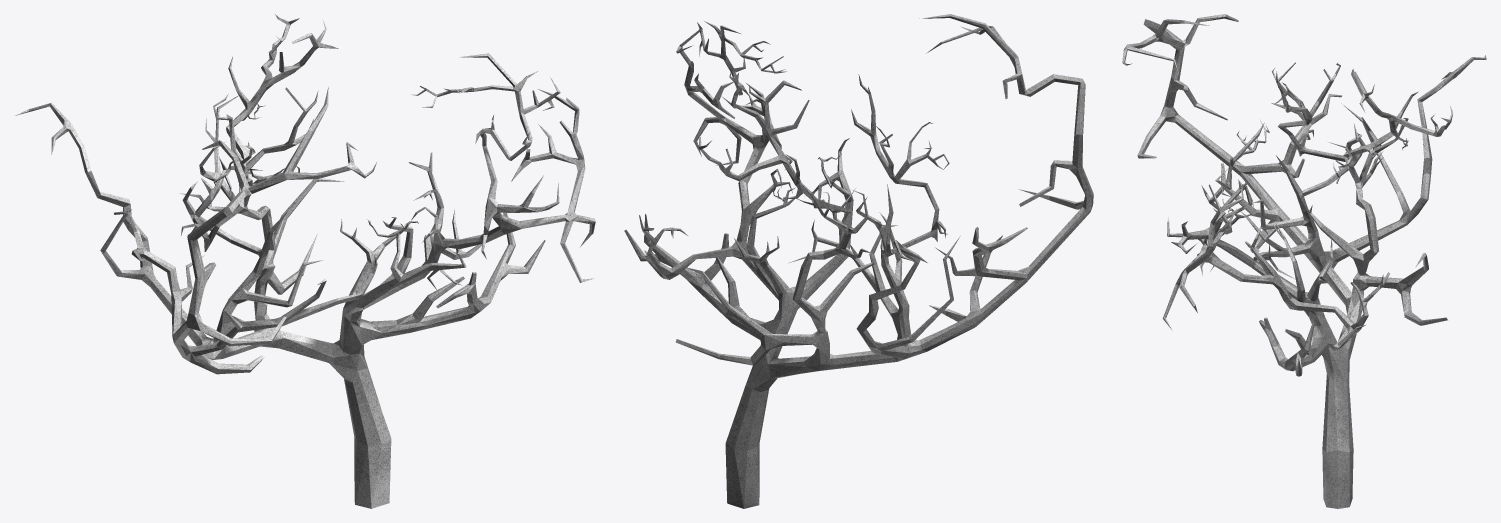
Rendered from arbre.glb.
3 renders of one model, left to right at view 1: azimuth 30°, elevation 25°; view 2: azimuth 150°, elevation 25°; view 3: azimuth 270°, elevation 25°, orthographic. The views are drawn at different scales.
Visible parts, largest first — view 1: Plane.015; view 2: Plane.015; view 3: Plane.015.
Part boxes in pixels (x1,y1,x2,y2): Plane.015: (15, 14, 595, 508); Plane.015: (624, 14, 1093, 508); Plane.015: (1122, 14, 1486, 508).
Size of the model in its own units: 10.77 by 11.83 by 9.14.
1 material, 1 textured.
